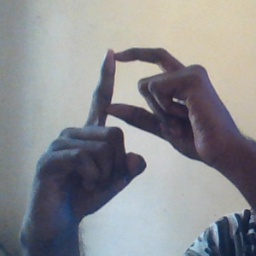D: (74, 37, 197, 164)
